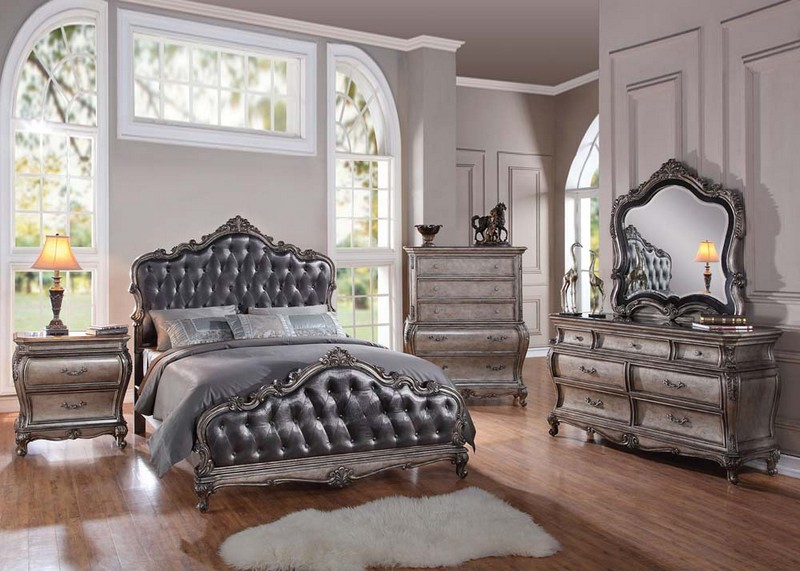bed: (125, 210, 479, 513)
lamp: (28, 231, 87, 338), (690, 233, 729, 297)
stool: (10, 327, 134, 457)
